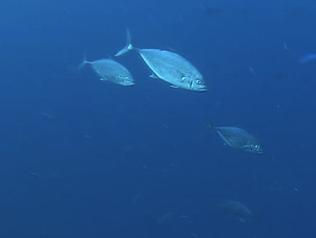Carangidae -Jacks-: (114, 24, 209, 94), (196, 111, 267, 164), (72, 38, 135, 88)
